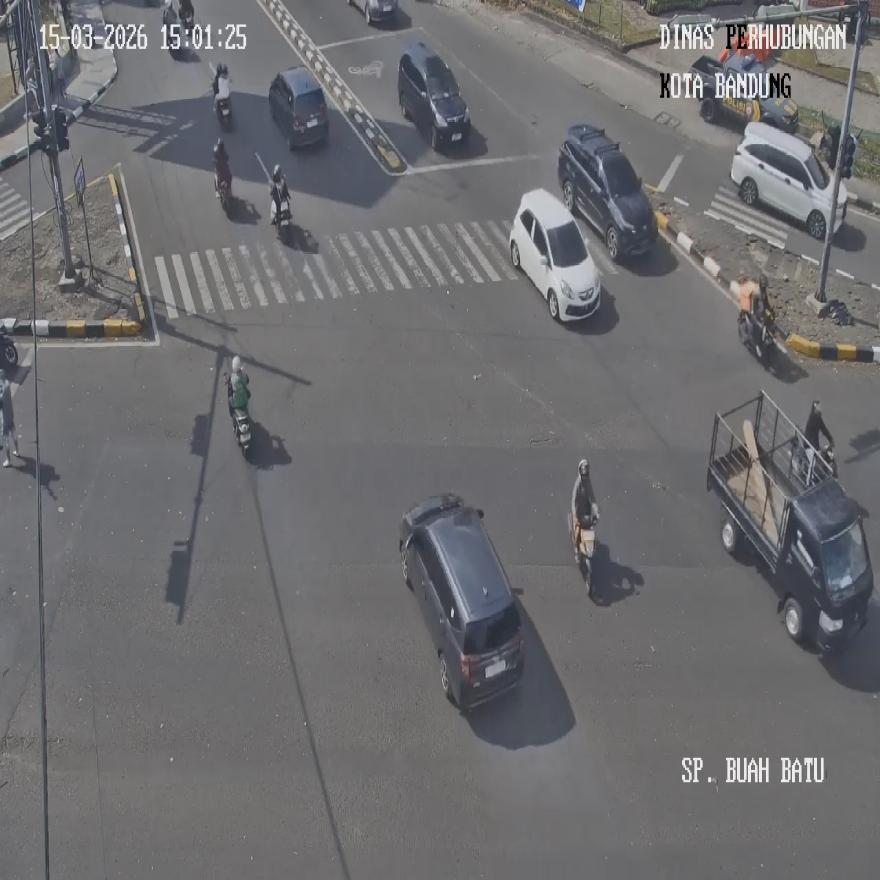Mobil: (706, 392, 874, 651), (398, 494, 524, 710), (730, 120, 849, 240), (557, 123, 656, 260), (509, 187, 601, 320), (689, 50, 798, 133), (398, 42, 470, 149), (268, 66, 329, 148)
Motor: (738, 307, 776, 365), (571, 510, 596, 595), (226, 374, 251, 456), (0, 376, 18, 467), (270, 189, 292, 242), (162, 6, 181, 56), (0, 326, 19, 369), (215, 168, 232, 212), (214, 90, 232, 128)
